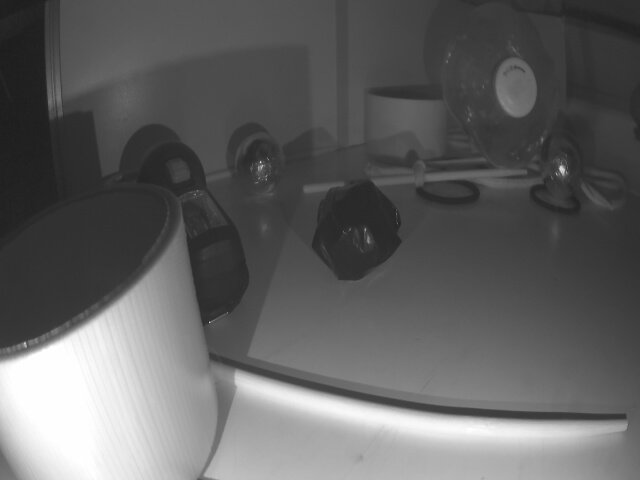Dead: (315, 180, 407, 275)
Live: (233, 133, 284, 197), (541, 128, 585, 202)
